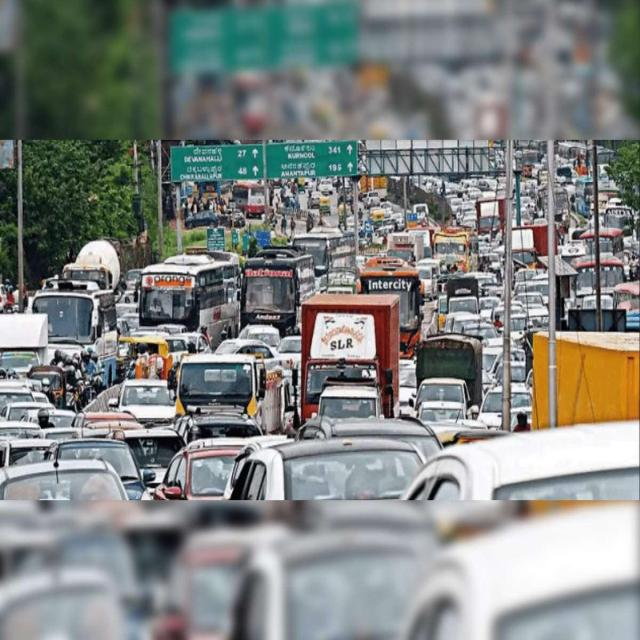bus: (140, 251, 240, 346), (31, 279, 118, 387), (241, 248, 316, 335), (360, 258, 421, 358)
car: (109, 380, 175, 423)
truck: (301, 294, 400, 421), (176, 354, 284, 434), (415, 334, 482, 410)
